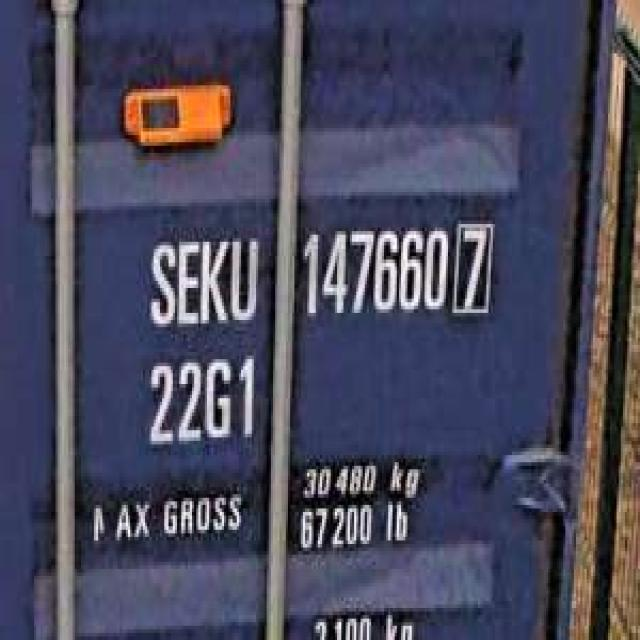dv: (450, 213, 497, 327)
owner: (141, 224, 260, 331)
serial: (294, 213, 450, 331)
size: (141, 345, 260, 459)
